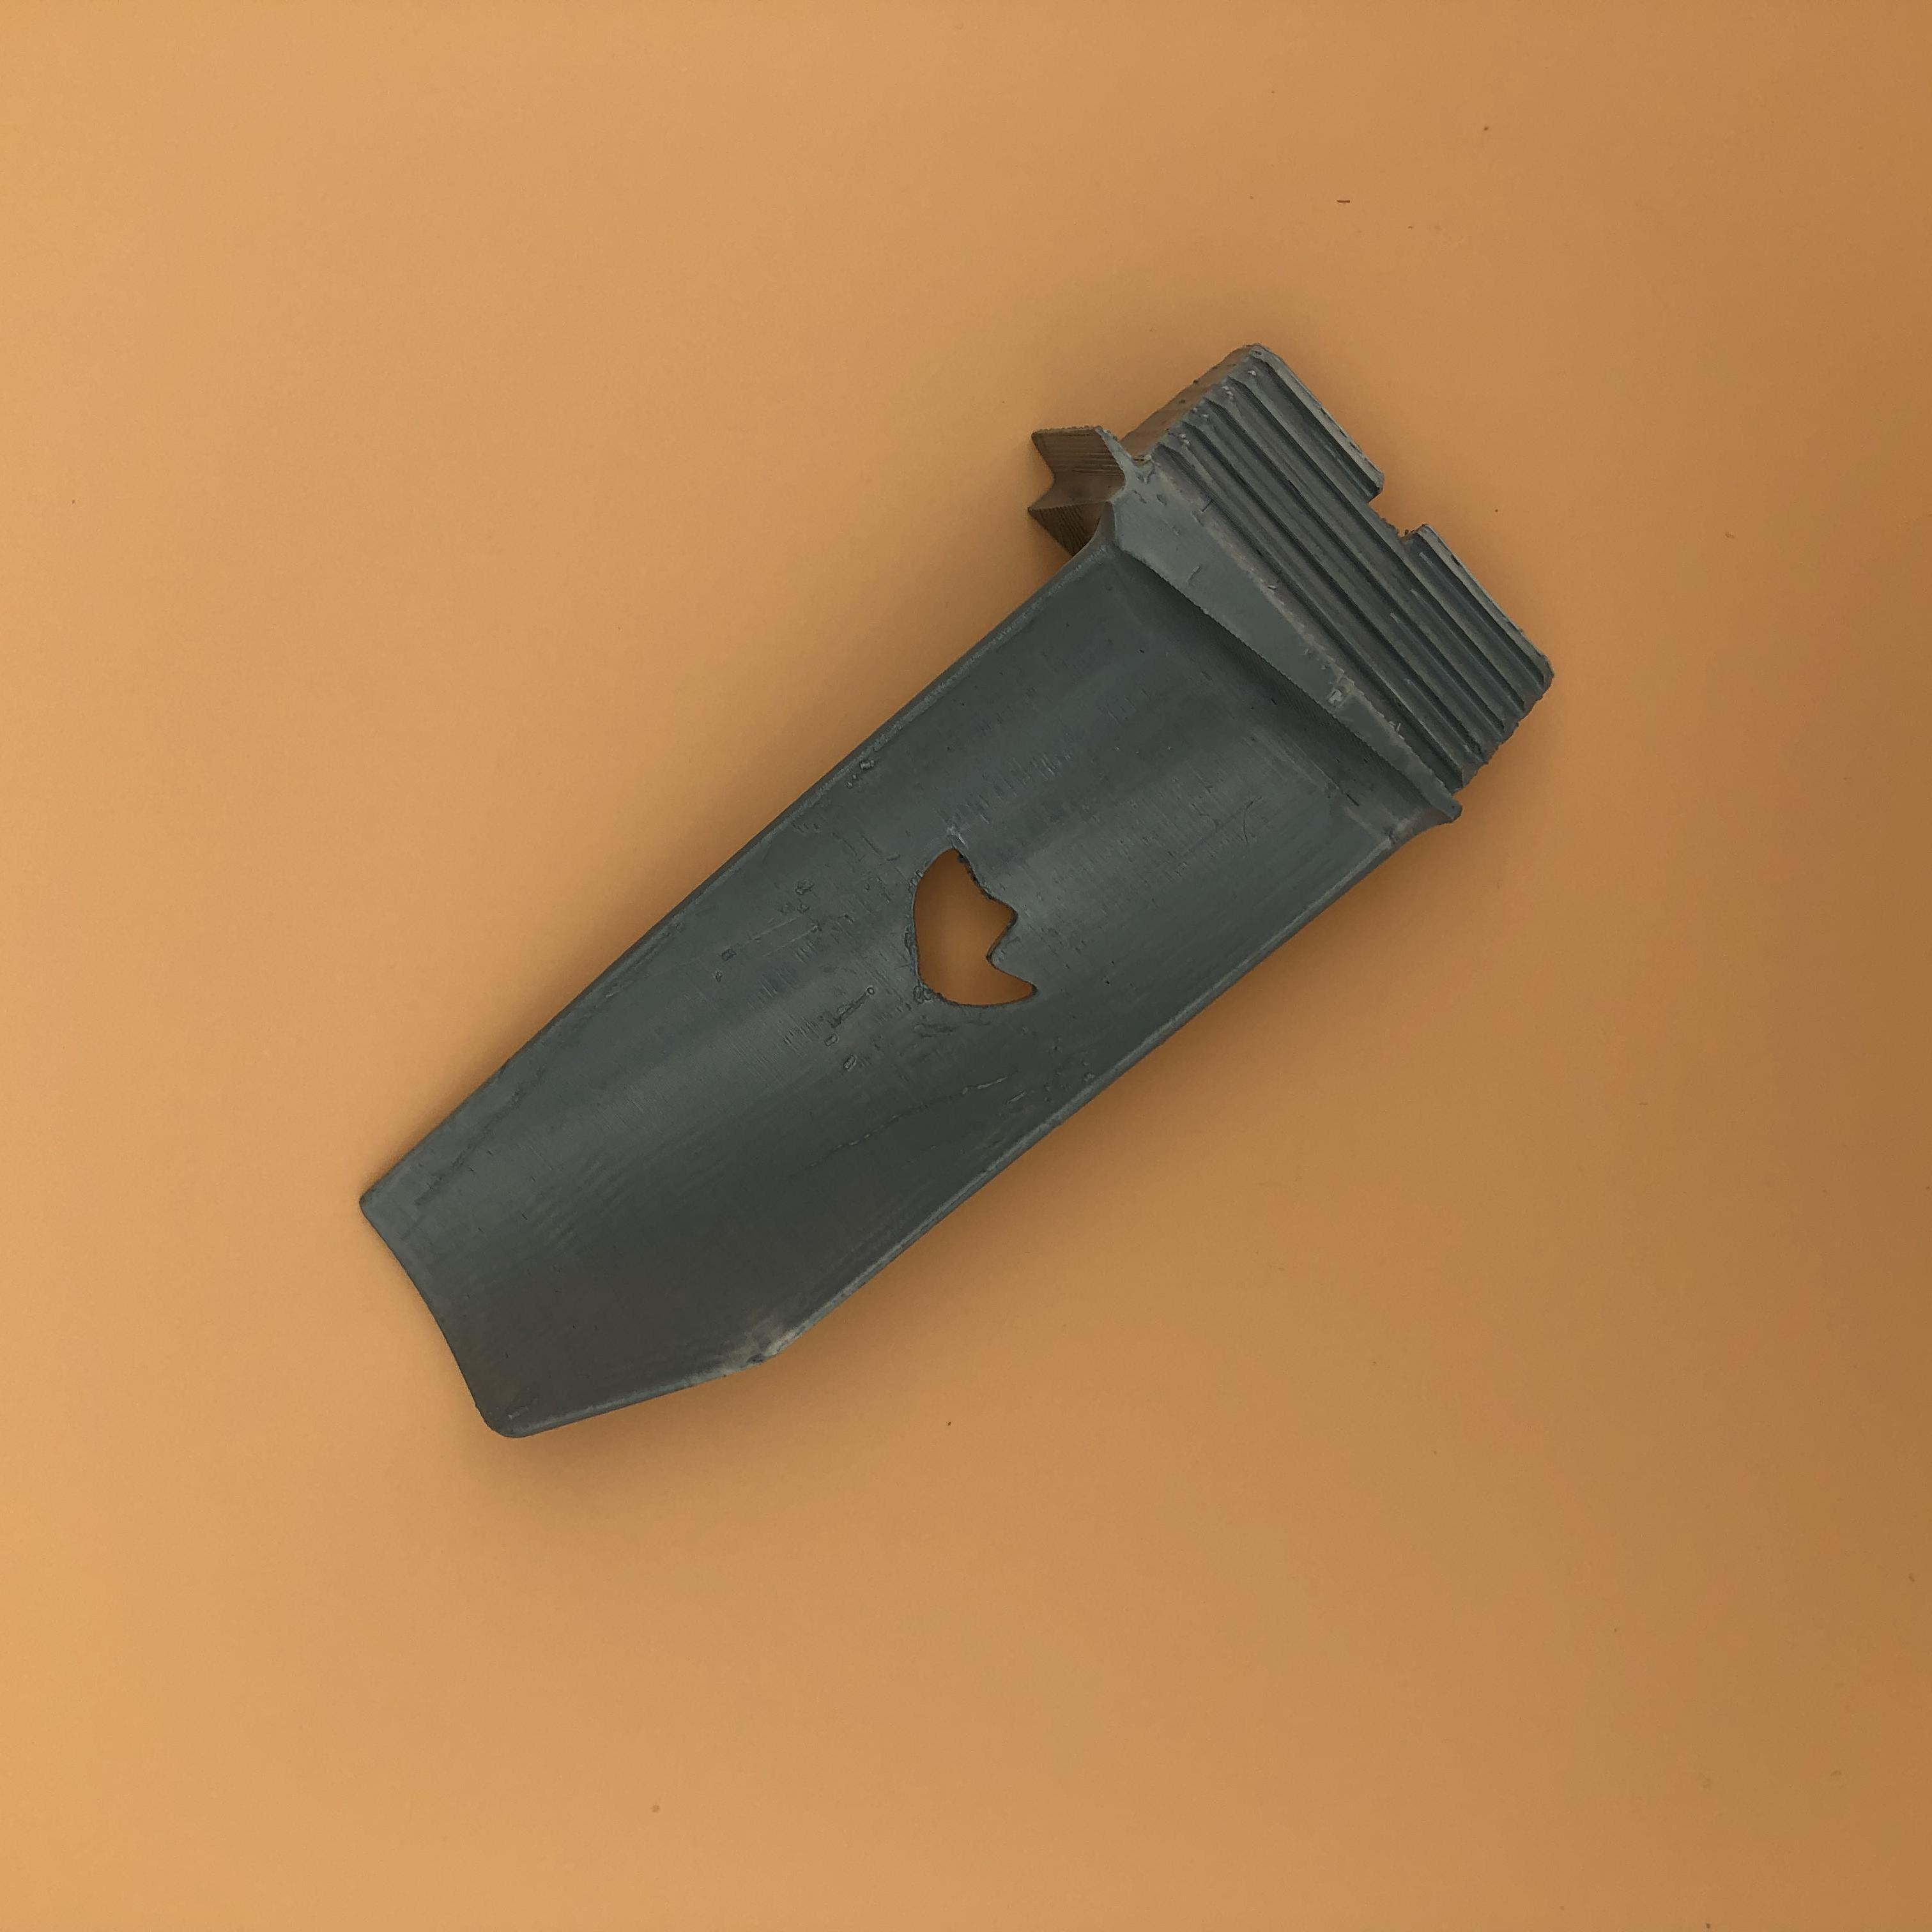breakdown: (897, 846, 1054, 1014)
